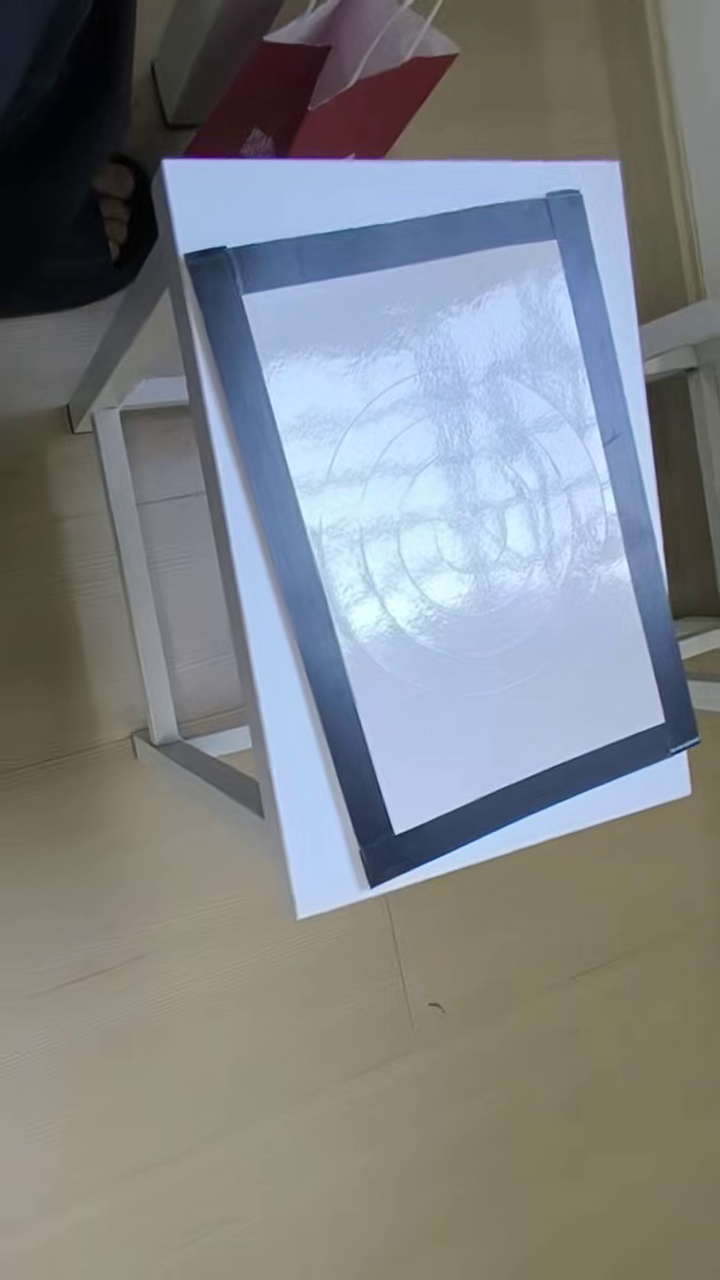board: (182, 189, 698, 886)
